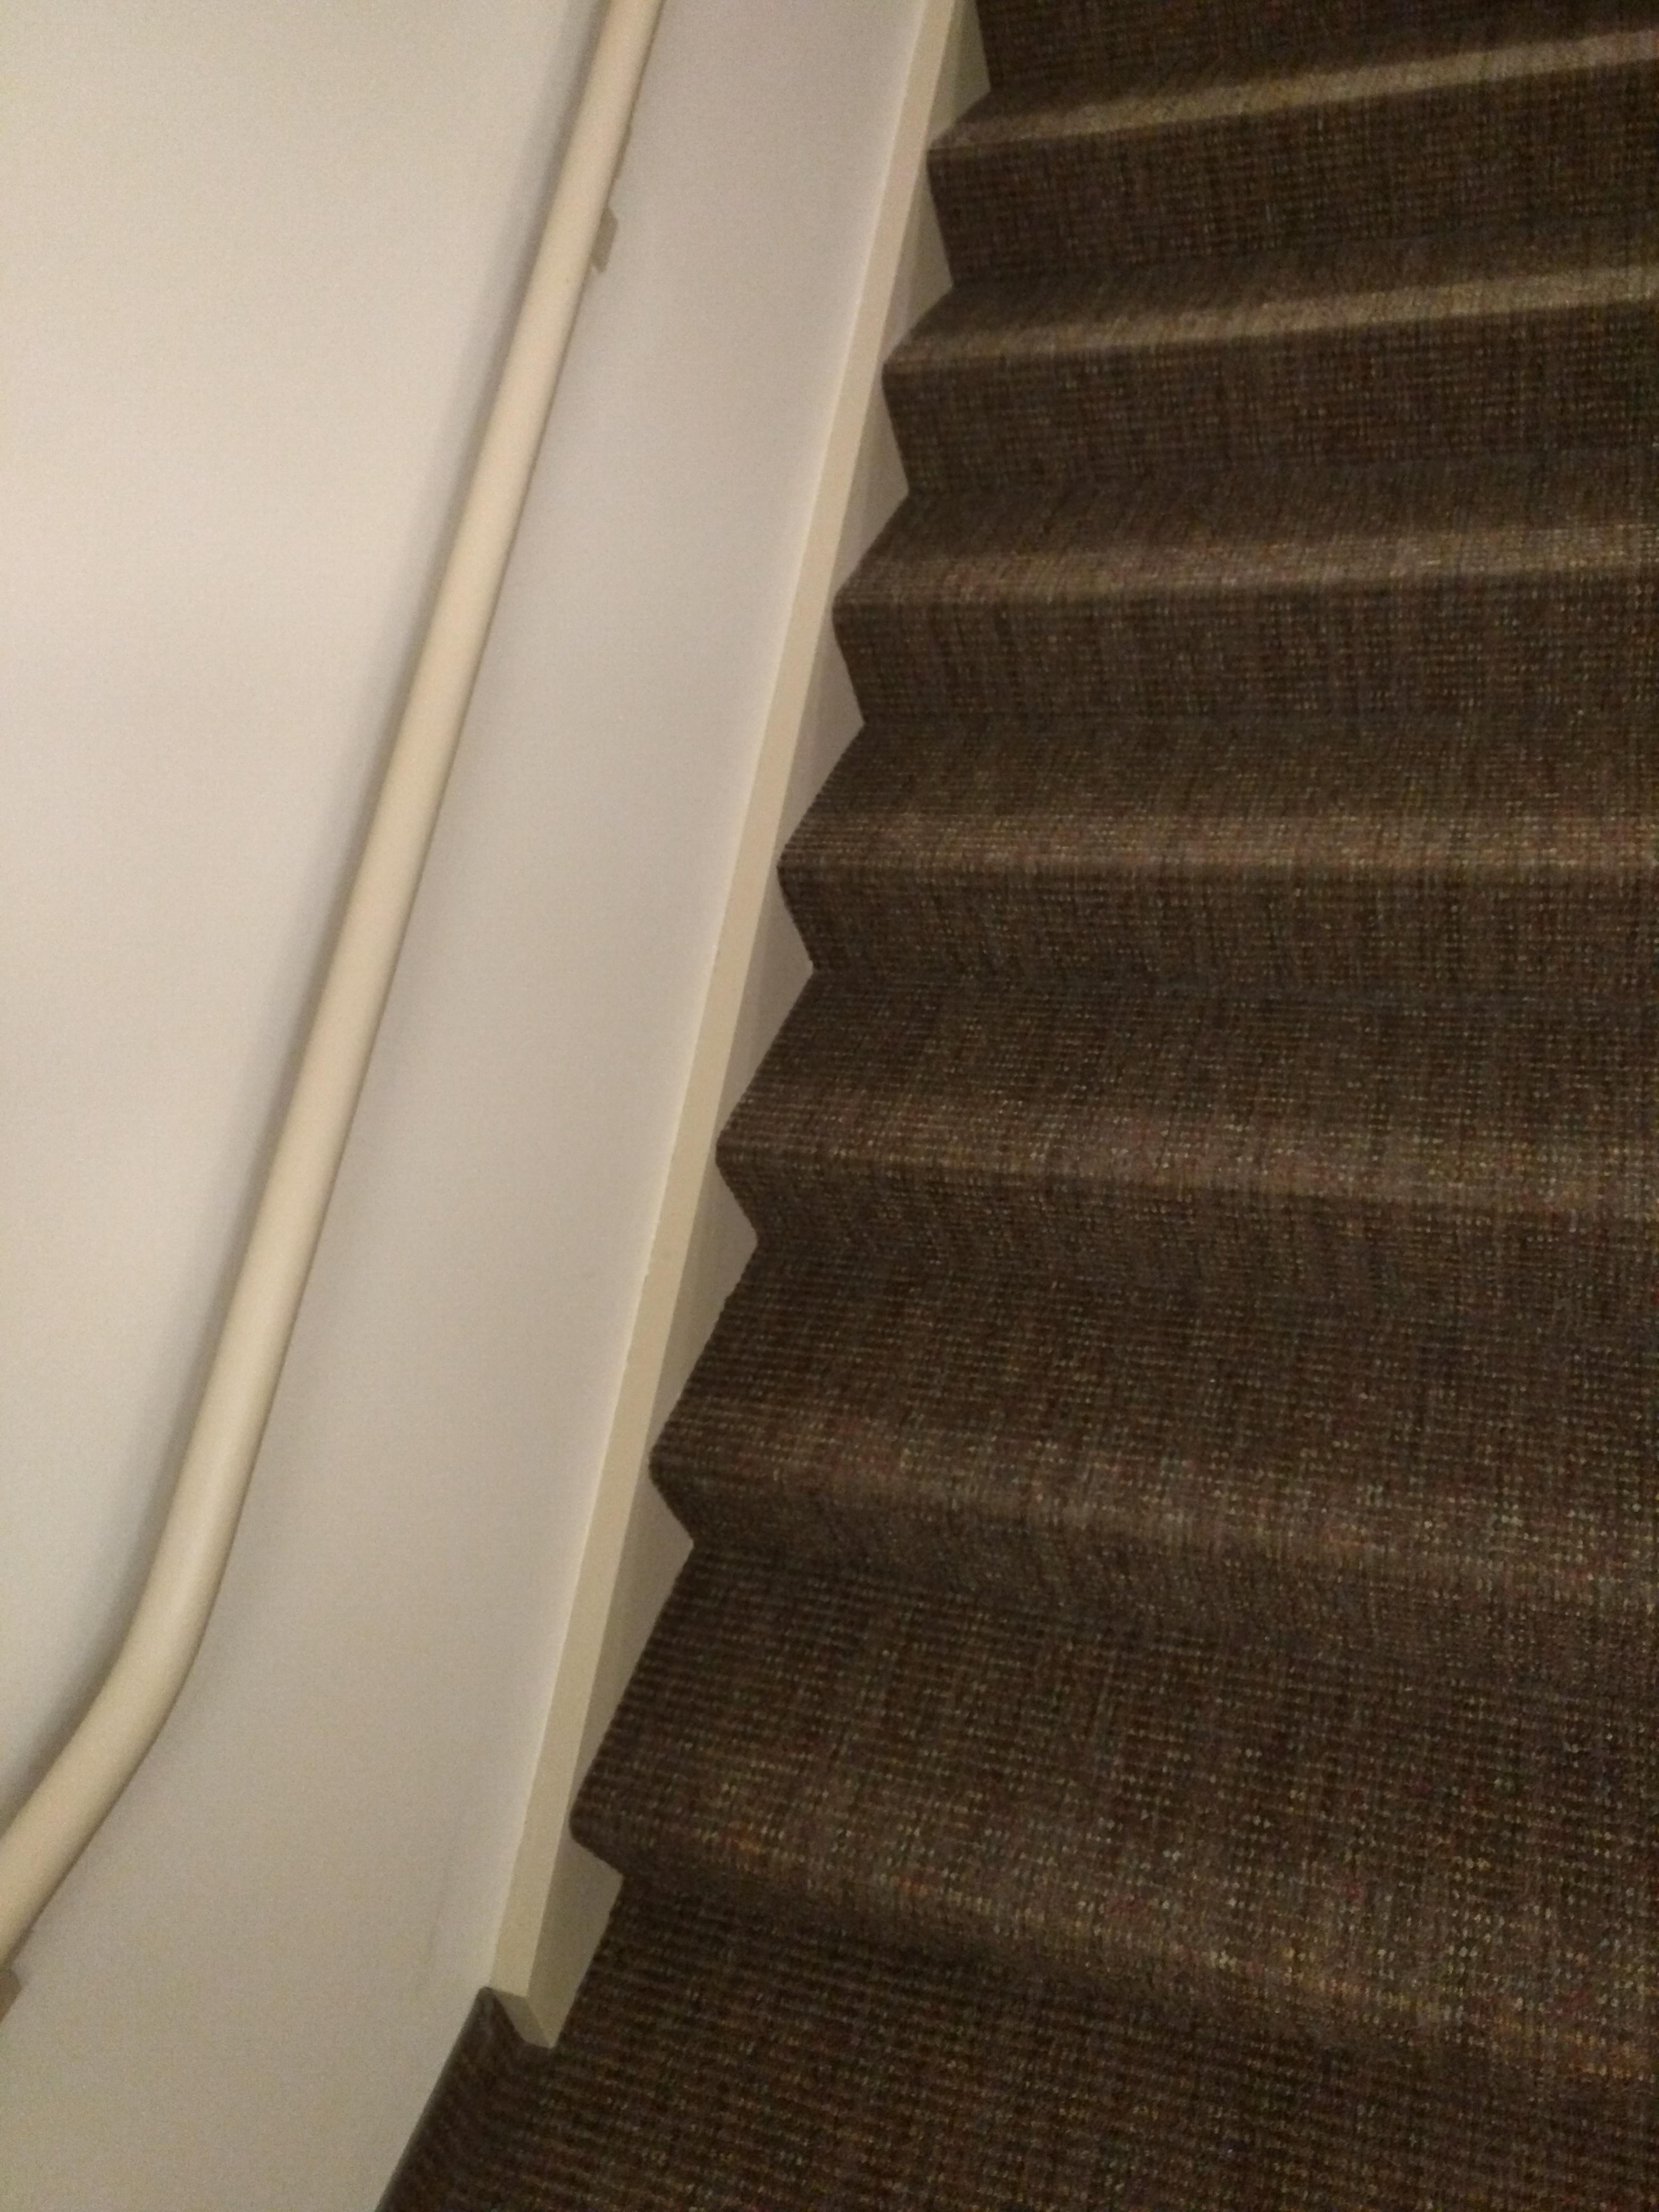stairs_up: (554, 26, 1659, 2188)
